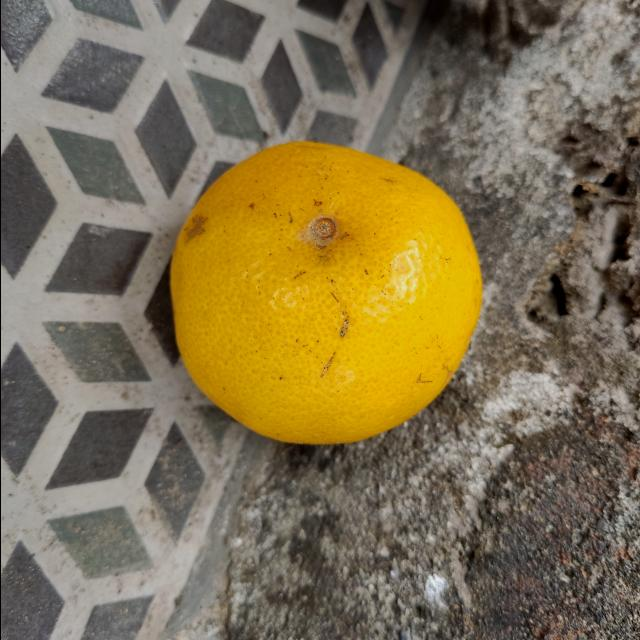orange: (169, 134, 483, 446)
